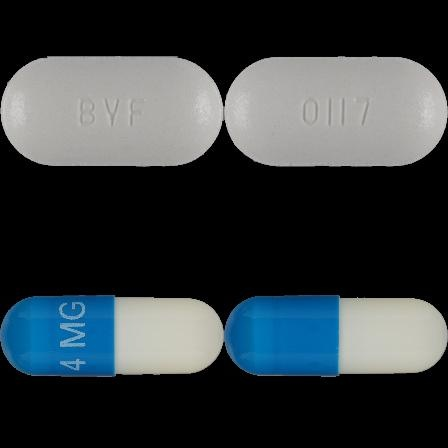16590-856: (0, 0, 224, 224)
